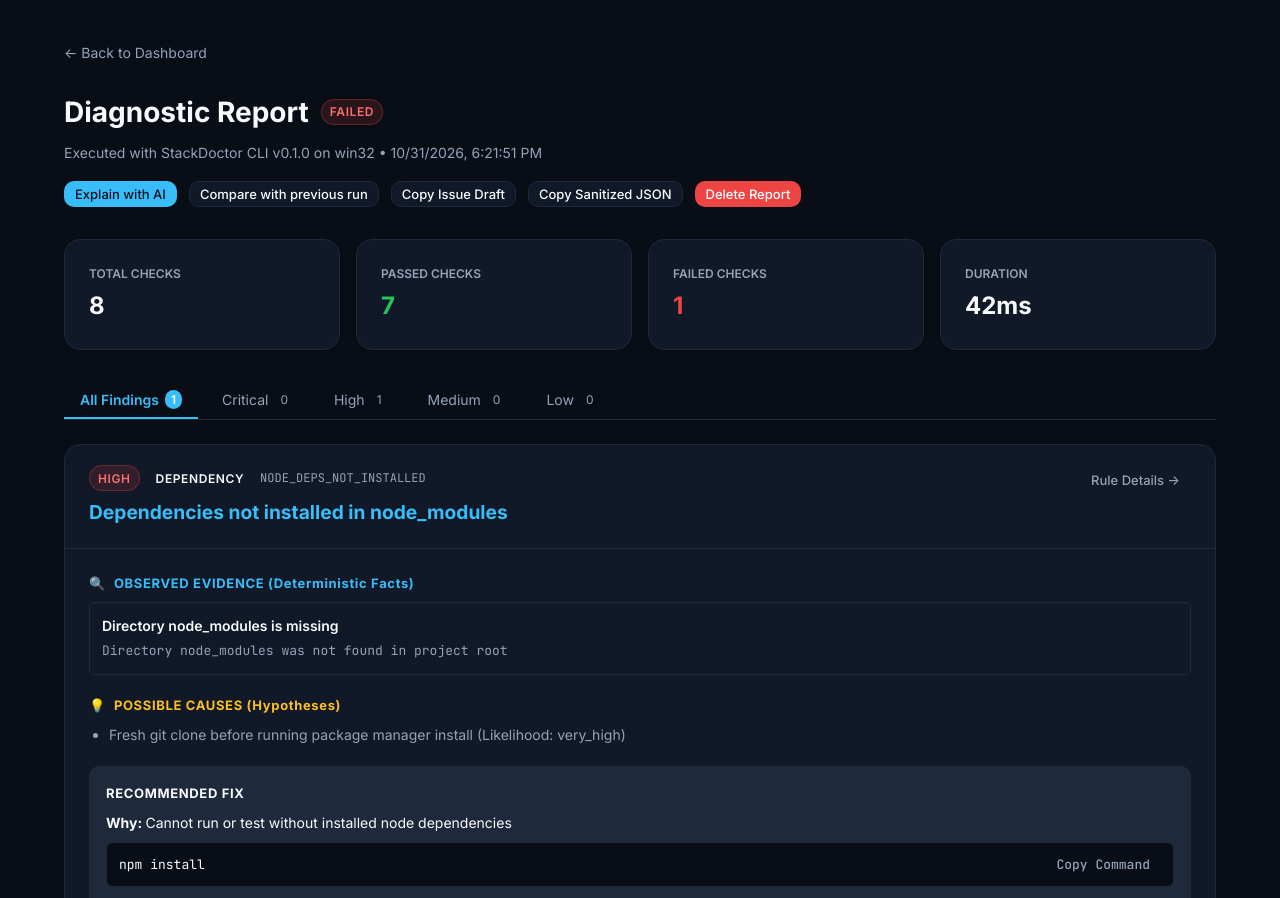
Test: StackDoctor Web Application Pages (Run 3E) › 3. Diagnostic Report Page (Observed Evidence vs Possible Causes) › renders findings distinctly labeling OBSERVED EVIDENCE and POSSIBLE CAUSES with severity filters
Check: the link "Dependencies not installed in node_modules" is shown, box x1=89 y1=500 x2=508 y2=524
Check: the text "OBSERVED EVIDENCE (Deterministic Facts)" is shown, box x1=114 y1=573 x2=414 y2=594
Note: Severity filters
Click the tab "Critical 0": {"x": 258, "y": 401} x1=206 y1=382 x2=310 y2=419
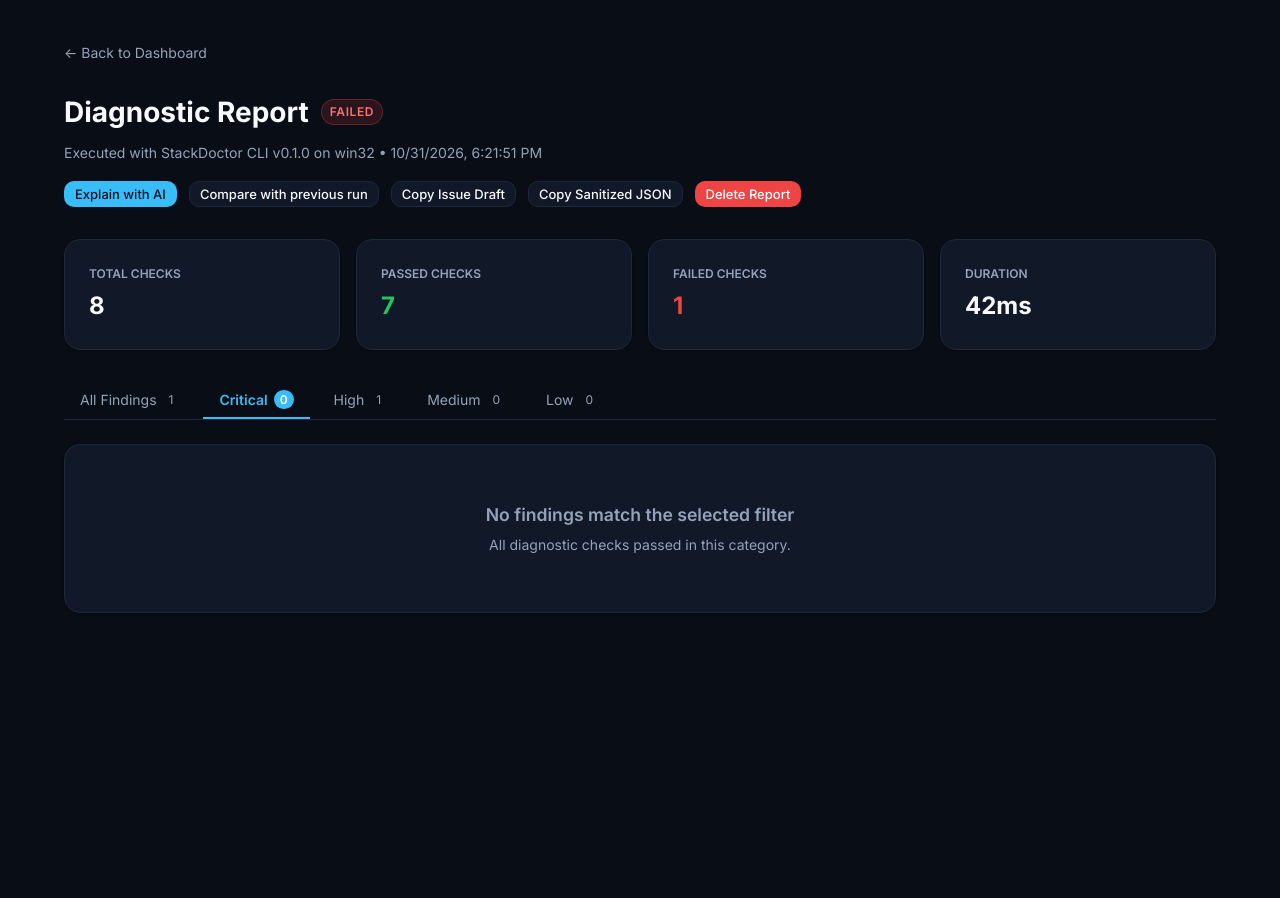
Check: the text "No findings match the selected filter" is shown, box x1=486 y1=504 x2=794 y2=525
Note: Click High tab
Click the tab "High 1": {"x": 360, "y": 401} x1=318 y1=382 x2=403 y2=419
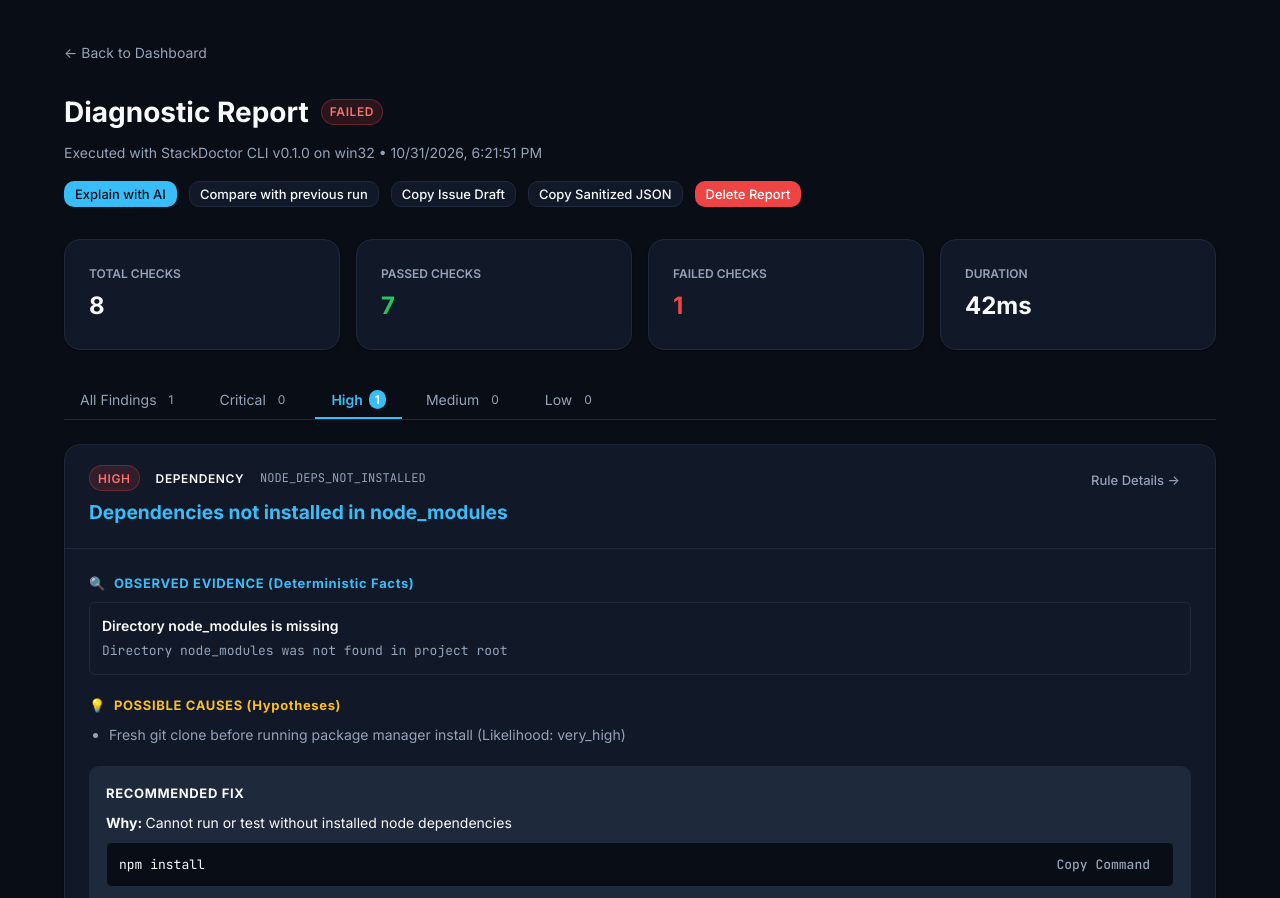
Check: the link "Dependencies not installed in node_modules" is shown, box x1=89 y1=500 x2=508 y2=524
